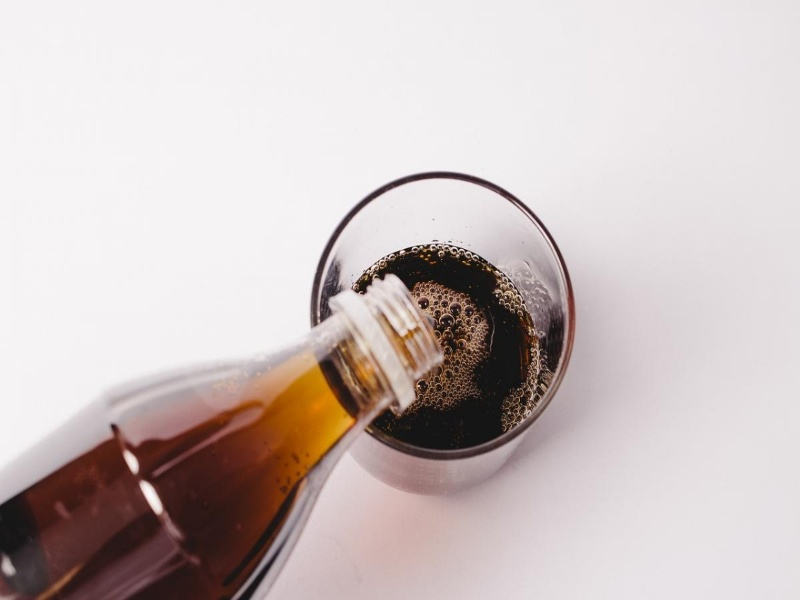Plastic bottle: (15, 281, 457, 600)
